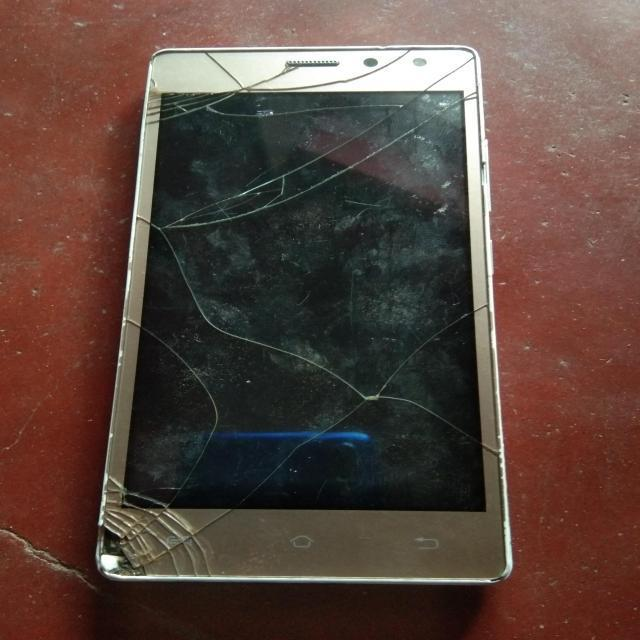cellphone: (108, 33, 527, 624)
